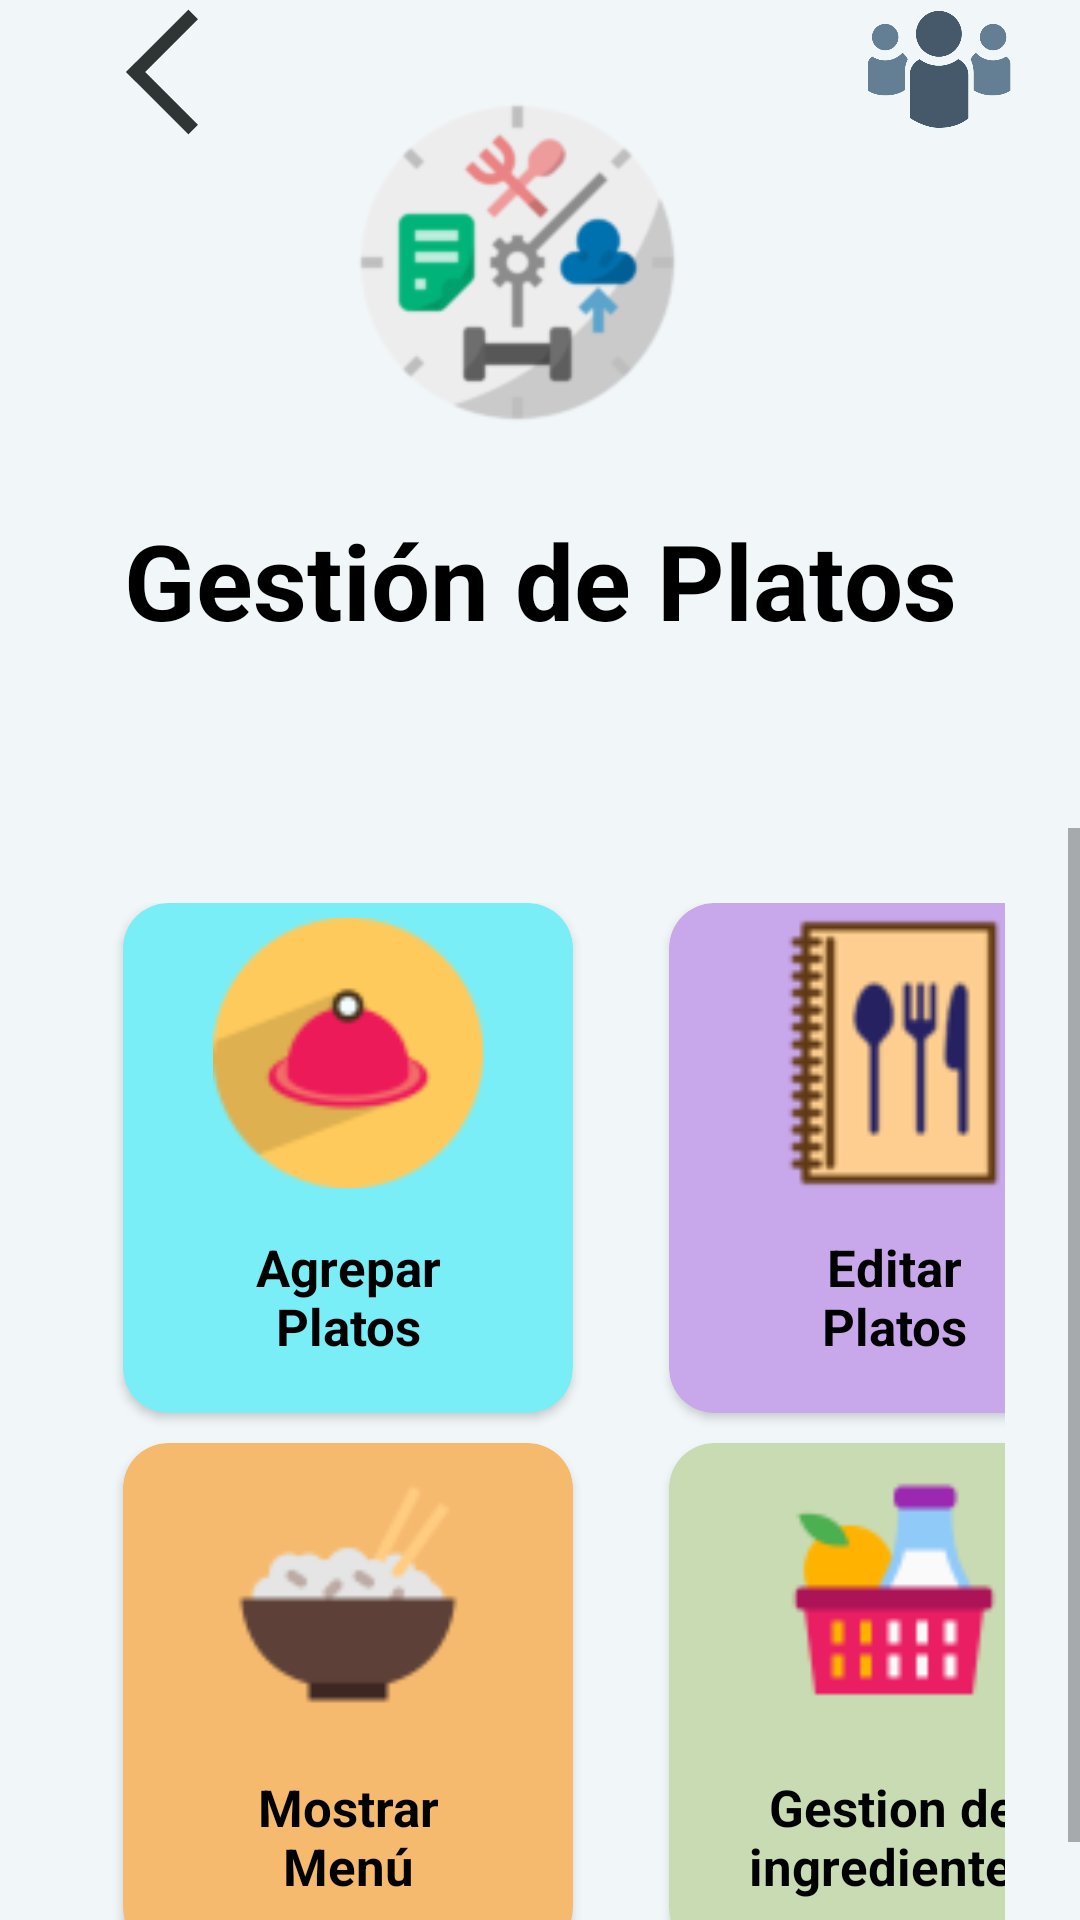

Named icons in this screenshot (1080w x 1920h) and their bounding boxes, rect(x1, y1, x2, y2):
fllecha: rect(126, 10, 198, 134)
personal: rect(868, 11, 1011, 128)
